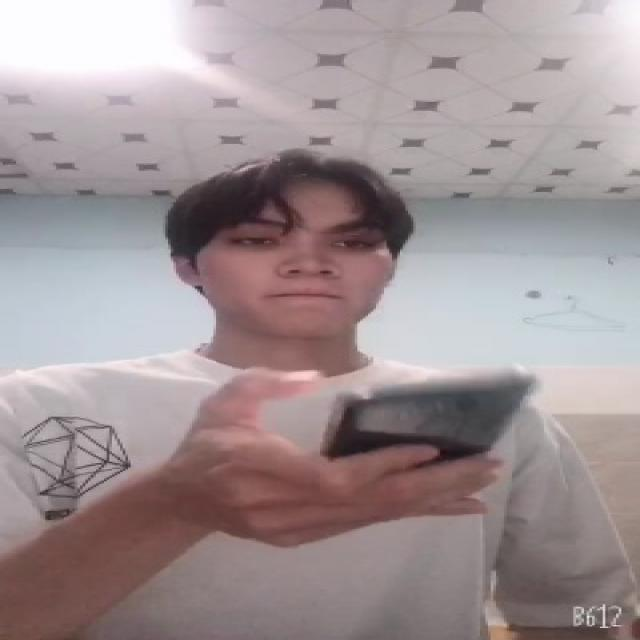Phone: (324, 368, 535, 463)
